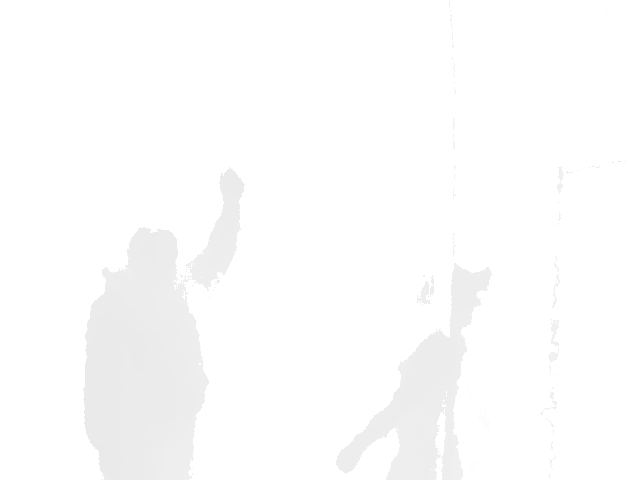hand: (217, 167, 245, 209)
head: (417, 265, 480, 336), (127, 227, 180, 293)
person: (81, 167, 246, 480), (336, 265, 493, 480)
